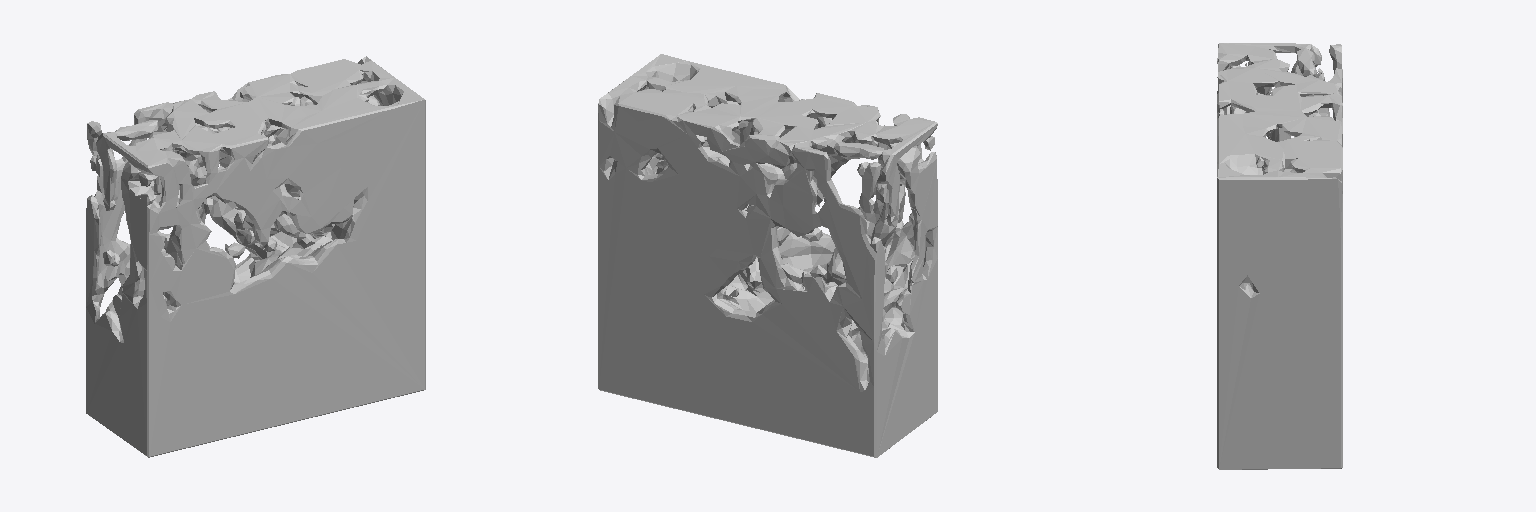
The picture shows the model from 3 angles: view 1: azimuth 30°, elevation 25°; view 2: azimuth 150°, elevation 25°; view 3: azimuth 270°, elevation 25°; orthographic projection.
Visible parts, largest first — view 1: Liquid_Domain; view 2: Liquid_Domain; view 3: Liquid_Domain.
Part boxes in pixels (x1,y1,x2,y2): Liquid_Domain: (86,56,425,457); Liquid_Domain: (598,54,937,457); Liquid_Domain: (1217,43,1342,469).
Bounding box in the file's own units: 884 × 885 × 345.